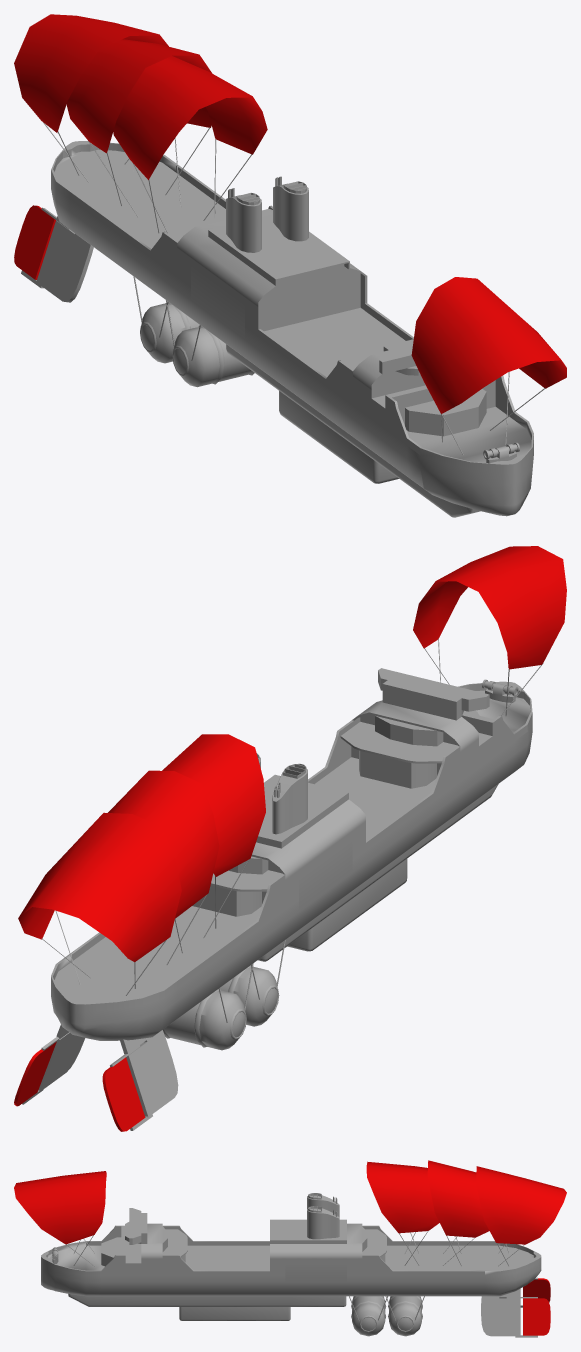
Rendered from ship_merchant_schooner_02.FBX.
3 renders of one model, top to bottom at view 1: azimuth 30°, elevation 25°; view 2: azimuth 150°, elevation 25°; view 3: azimuth 270°, elevation 25°, orthographic. The views are drawn at different scales.
Visible parts, largest first — view 1: ship_merchant_schooner_02; view 2: ship_merchant_schooner_02; view 3: ship_merchant_schooner_02.
Part boxes in pixels (x1,y1,x2,y2): ship_merchant_schooner_02: (14, 14, 566, 517); ship_merchant_schooner_02: (14, 546, 566, 1131); ship_merchant_schooner_02: (14, 1160, 566, 1337).
Bounding box in the file's own units: 665 × 1535 × 4735.
